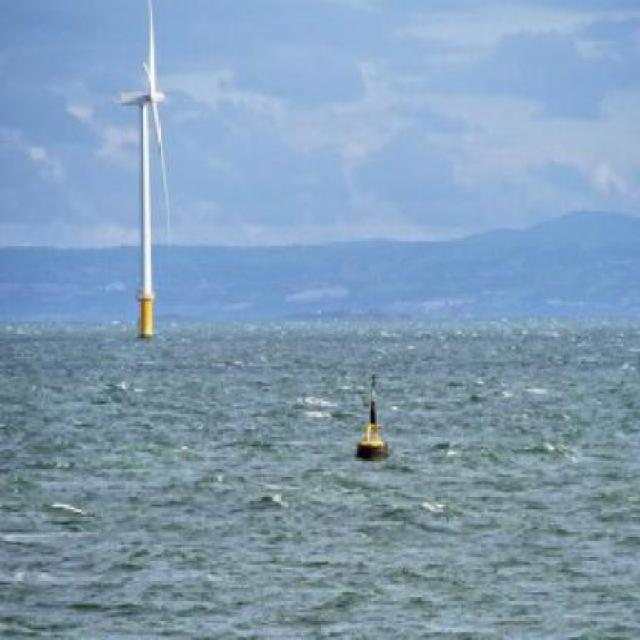buoy: (345, 363, 392, 466)
